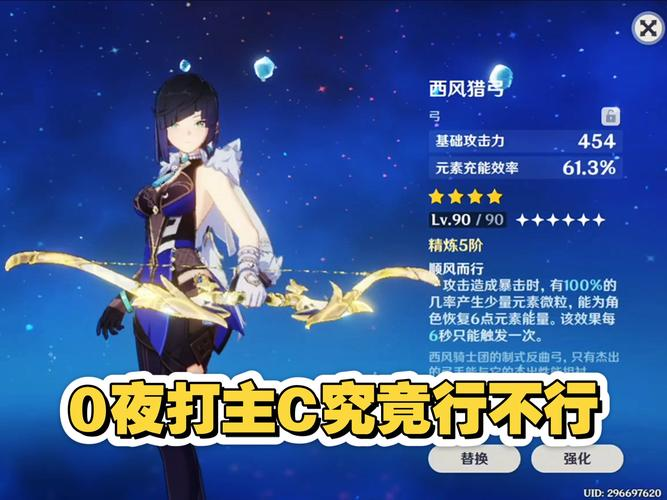夜兰: (88, 53, 271, 500)
